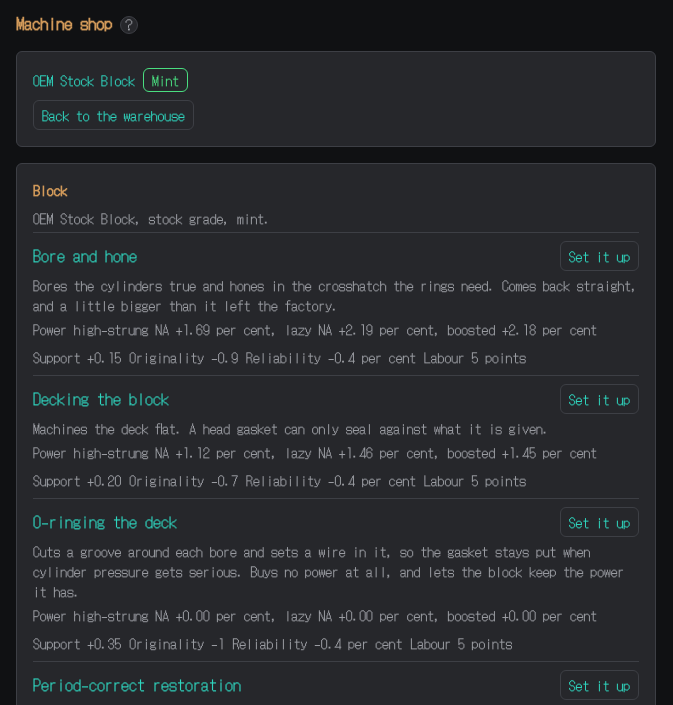
Test: MachineShopPanel › does the work on click and reports it as done afterwards
Click the button with test id "machine-shop-do-bore-and-hone": [599, 256] box [560,241,639,271]
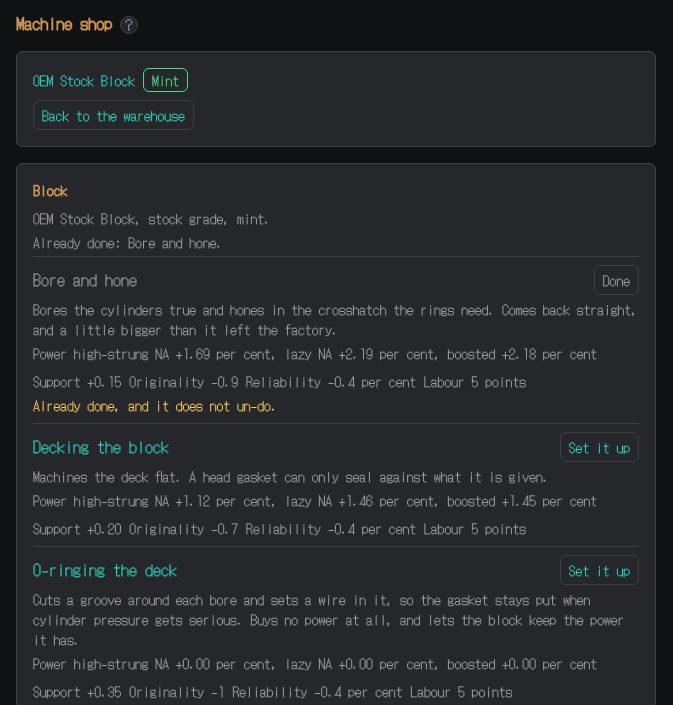
expect the text with test id "machine-shop-applied" shows "Bore and hone": met, box [33,232,223,252]
expect the button with test id "machine-shop-do-bore-and-hone" reads "Done": met, box [594,265,639,295]
